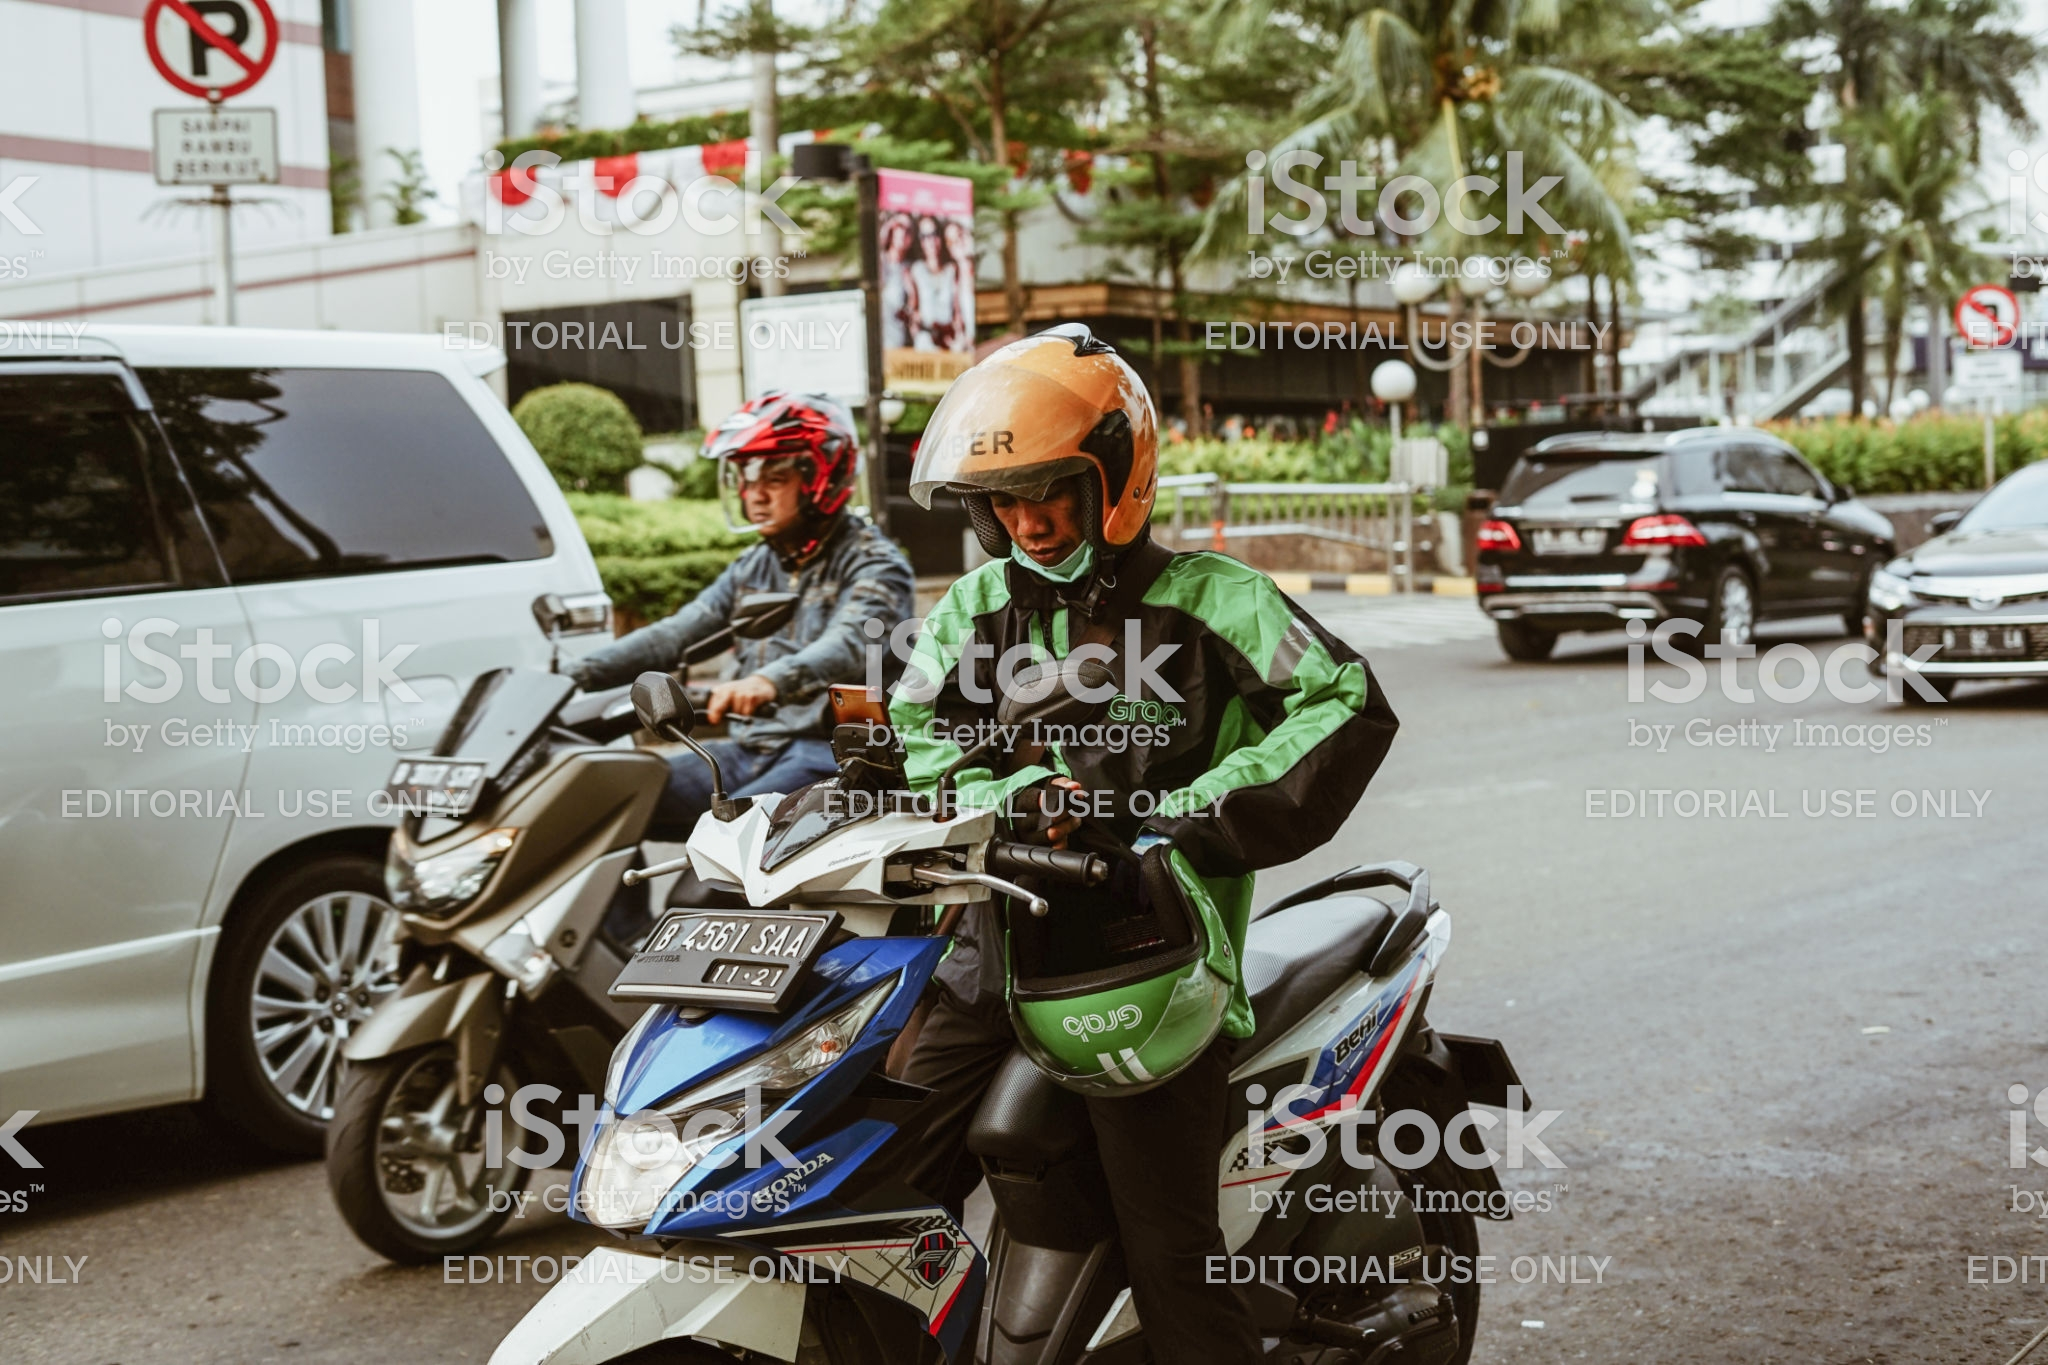helmet: (921, 317, 1160, 555), (700, 381, 859, 532)
